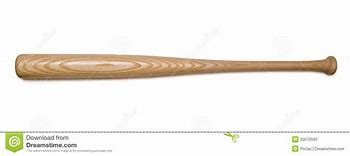bat: (14, 51, 339, 83)
